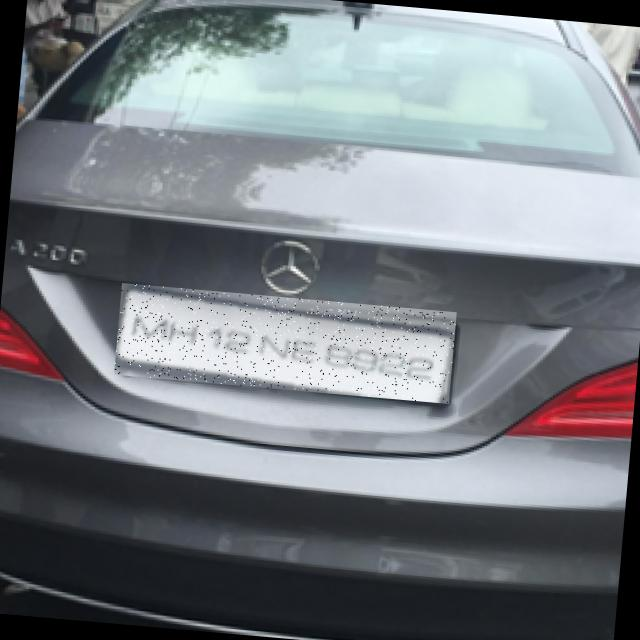Plate: (115, 284, 458, 405)
